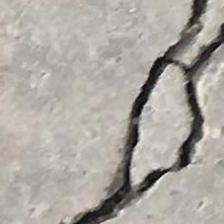Crack: (55, 0, 224, 224)
